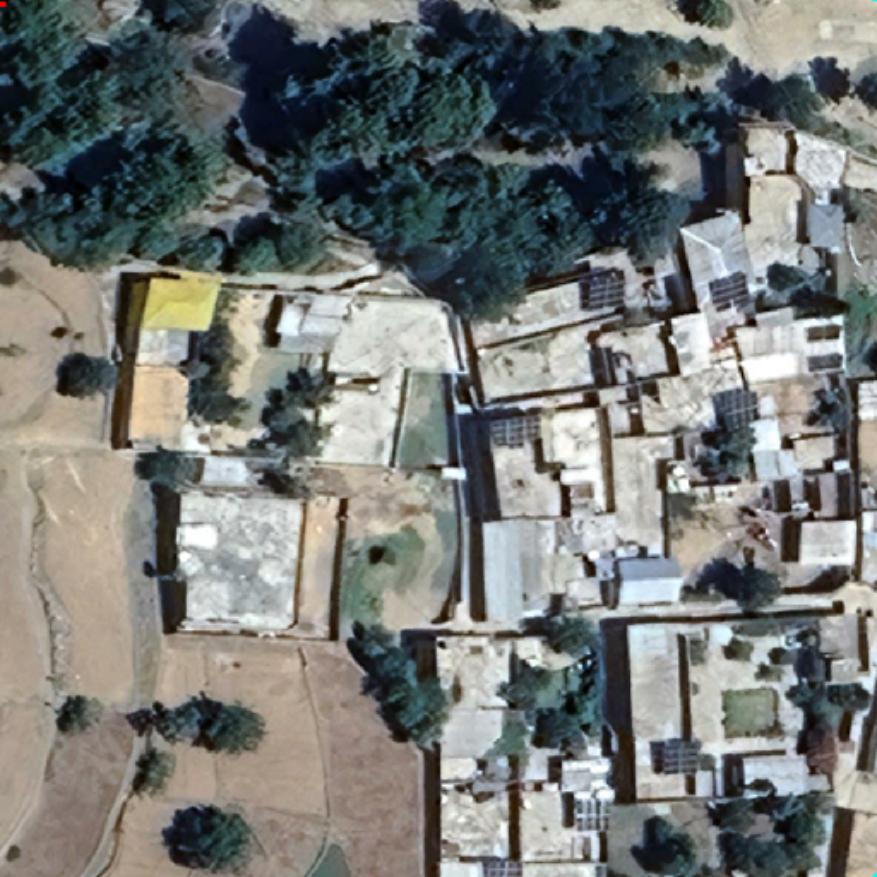Solarpanel: (708, 268, 752, 314), (489, 412, 541, 448), (586, 270, 626, 310), (722, 388, 762, 428), (570, 793, 608, 834), (662, 740, 700, 774), (801, 321, 849, 346), (803, 349, 847, 372), (484, 859, 522, 877)
